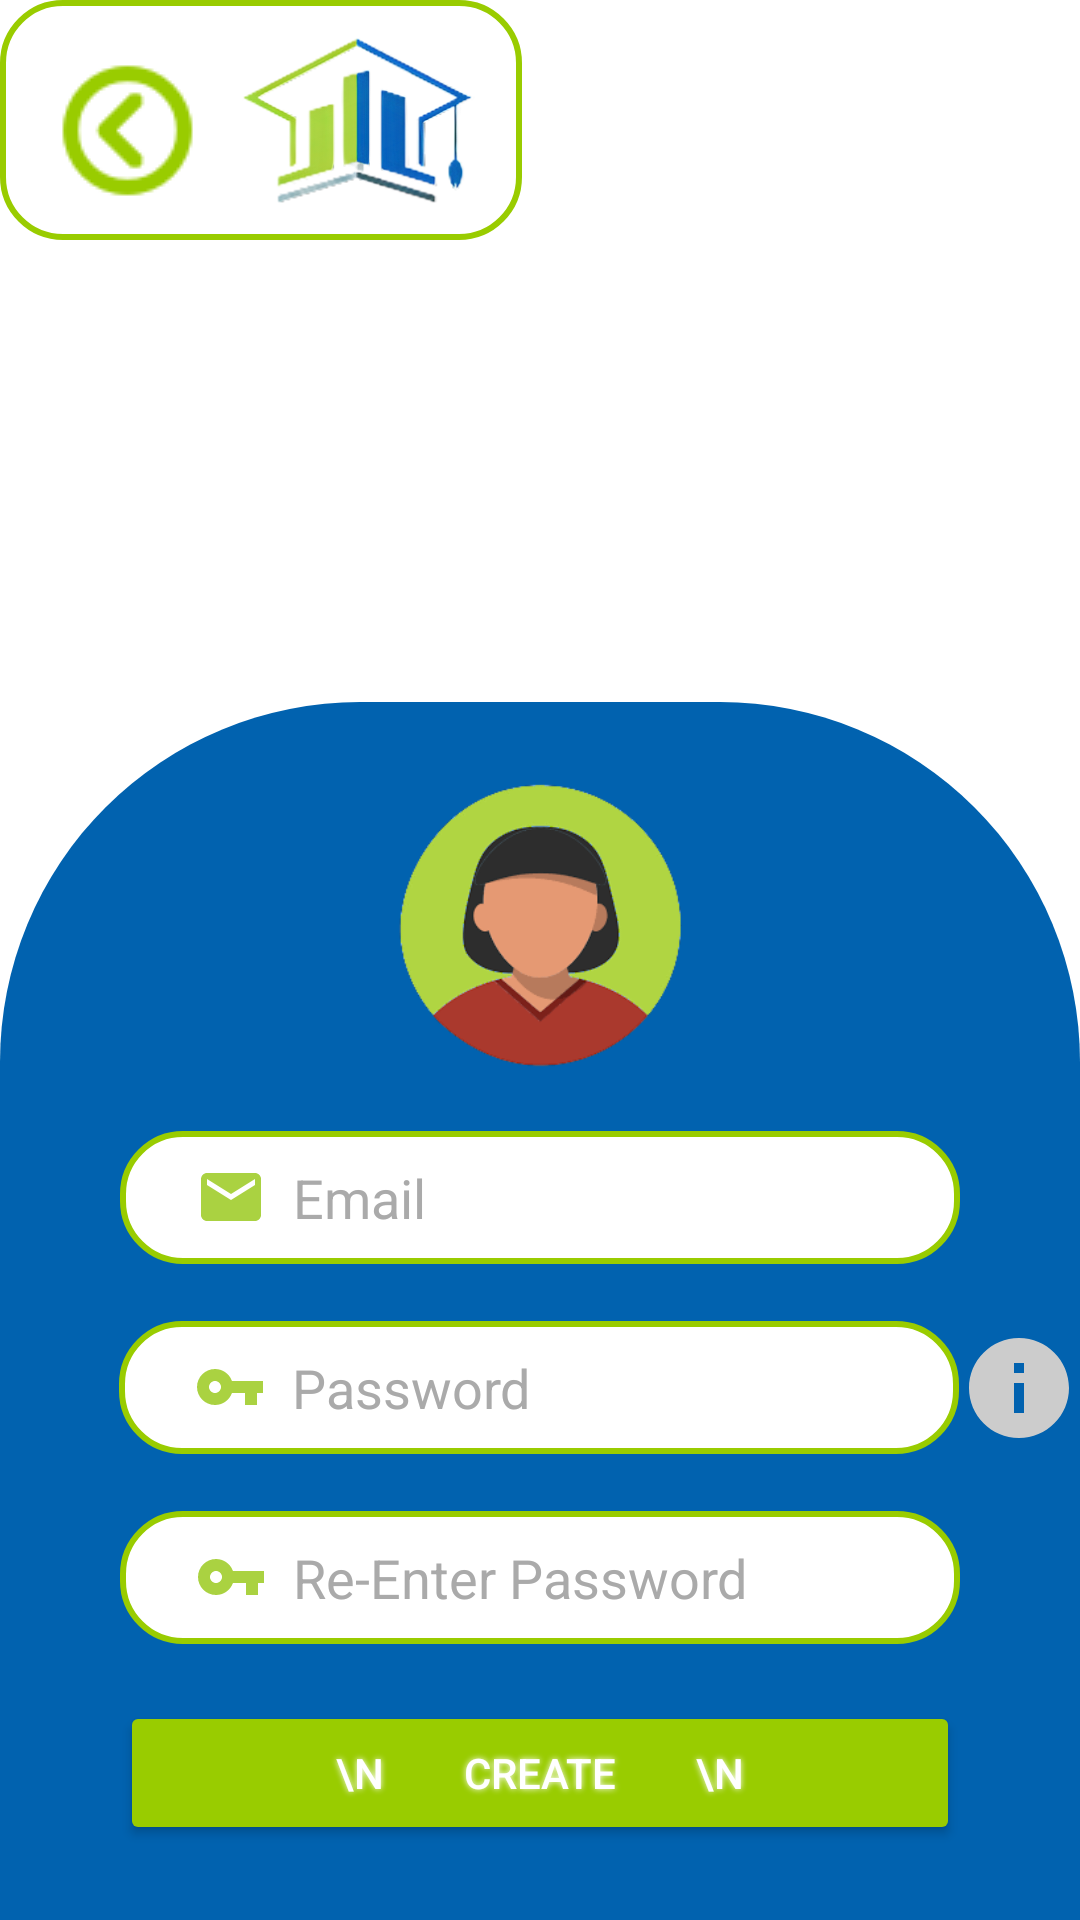

Point at icon controls on the screen. Image size 1080×1920, points as (x=x, y=y).
back: (x=127, y=130)
pass req: (x=1019, y=1388)
